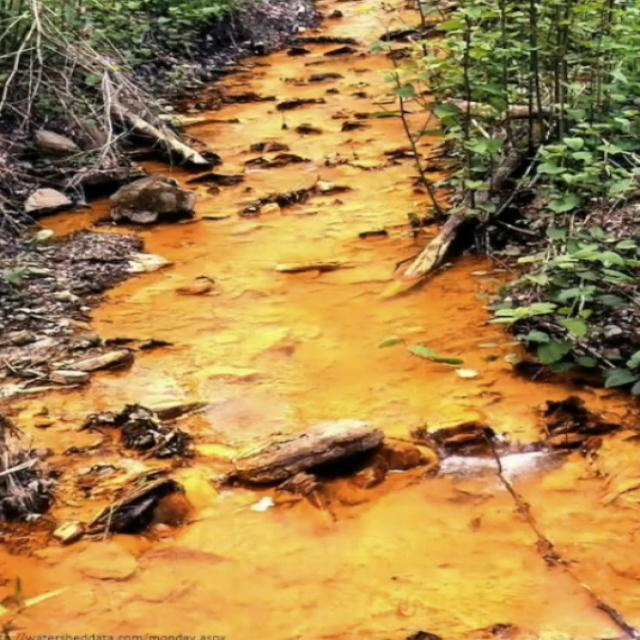yellow_boy: (8, 0, 611, 639)
